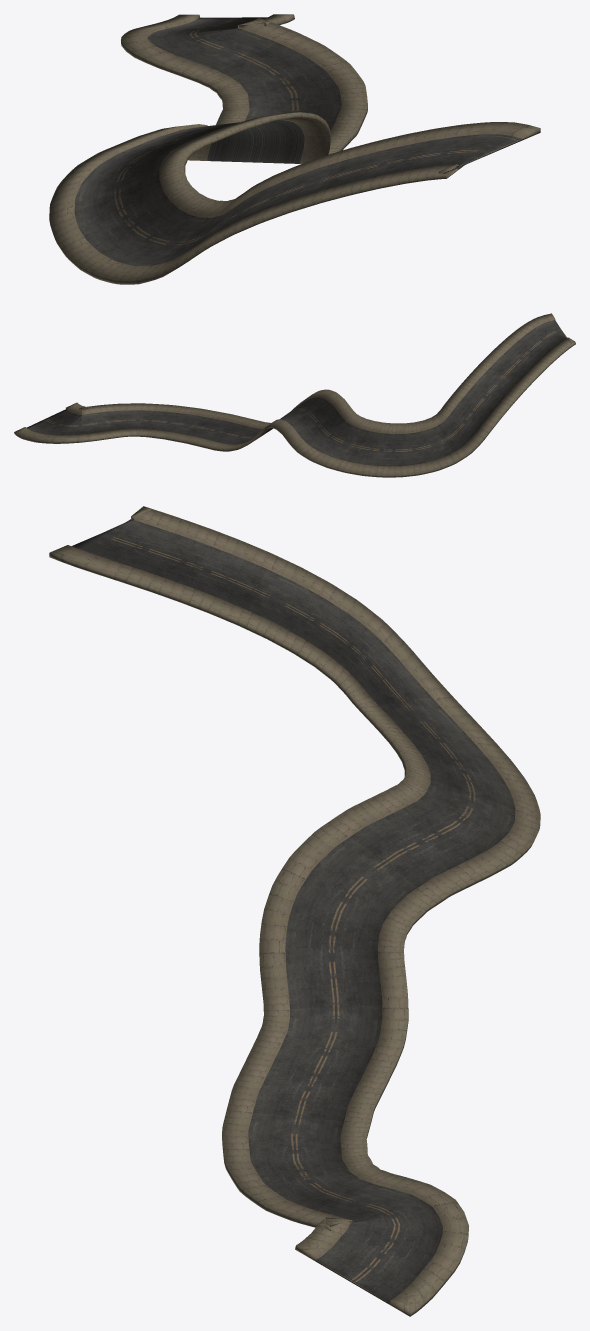
Rendered from road2.fbx.
3 views of the same model, one above another, from view 1: azimuth 90°, elevation 25°; view 2: azimuth 150°, elevation 25°; view 3: azimuth 270°, elevation 25° (orthographic). The views are drawn at different scales.
Parts seen in each view (by area): view 1: Cube.002; view 2: Cube.002; view 3: Cube.002.
Part boxes in pixels (left/top/right/bottom): Cube.002: left=49, top=14, right=540, bottom=284; Cube.002: left=14, top=313, right=575, bottom=477; Cube.002: left=49, top=506, right=540, bottom=1316.
Bounding box in the file's own units: 8262 × 2617 × 3550.
Materials: 1 (1 with a texture image).
